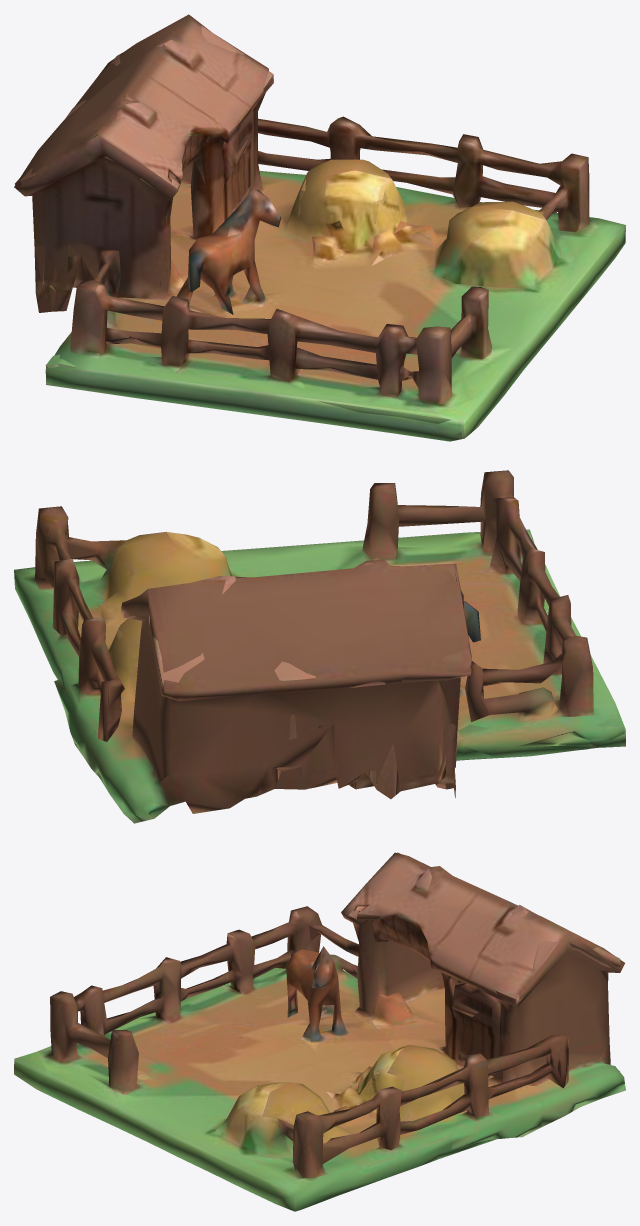
The model's file is pasture.glb.
The picture shows the model from 3 angles, top to bottom: view 1: azimuth 30°, elevation 25°; view 2: azimuth 150°, elevation 25°; view 3: azimuth 270°, elevation 25°; orthographic projection. The views are drawn at different scales.
Visible parts, largest first — view 1: level; view 2: level; view 3: level.
Part boxes in pixels (x1,y1,x2,y2): level: [14, 14, 625, 441]; level: [14, 470, 625, 823]; level: [14, 852, 625, 1211].
Bounding box in the file's own units: 0.9015 × 0.2986 × 0.9444.
1 material, 1 textured.
